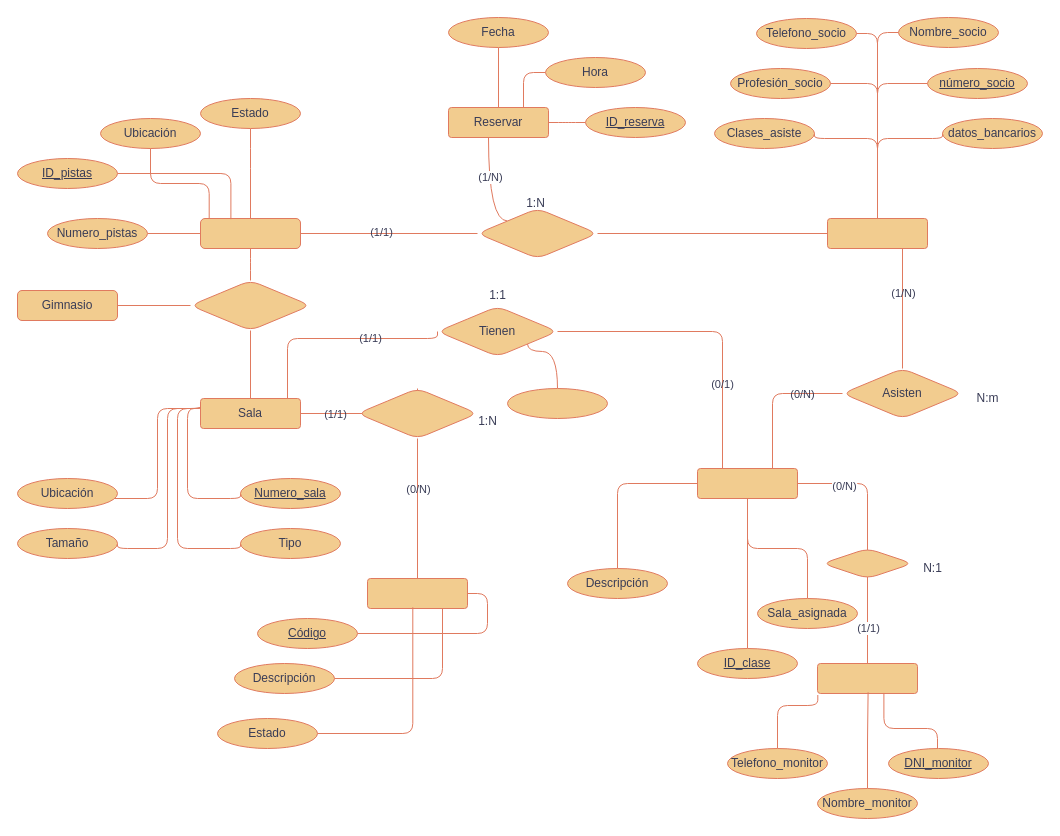
Some shapes in this 1060 by 836 pixel diagram are drawn without their labels. Each missing label, with the centre of its shape:
"Aparatos" belongs at [417,593].
"Clases" belongs at [747,483].
"Compuesto por" belongs at [417,413].
"consta_de" belongs at [250,305].
"Dia_hora" belongs at [557,403].
"imparte clase" belongs at [867,563].
"Monitor" belongs at [867,678].
"Pistas_Squash" belongs at [250,233].
"Socios" belongs at [877,233].
"Usadas por" belongs at [537,233].
